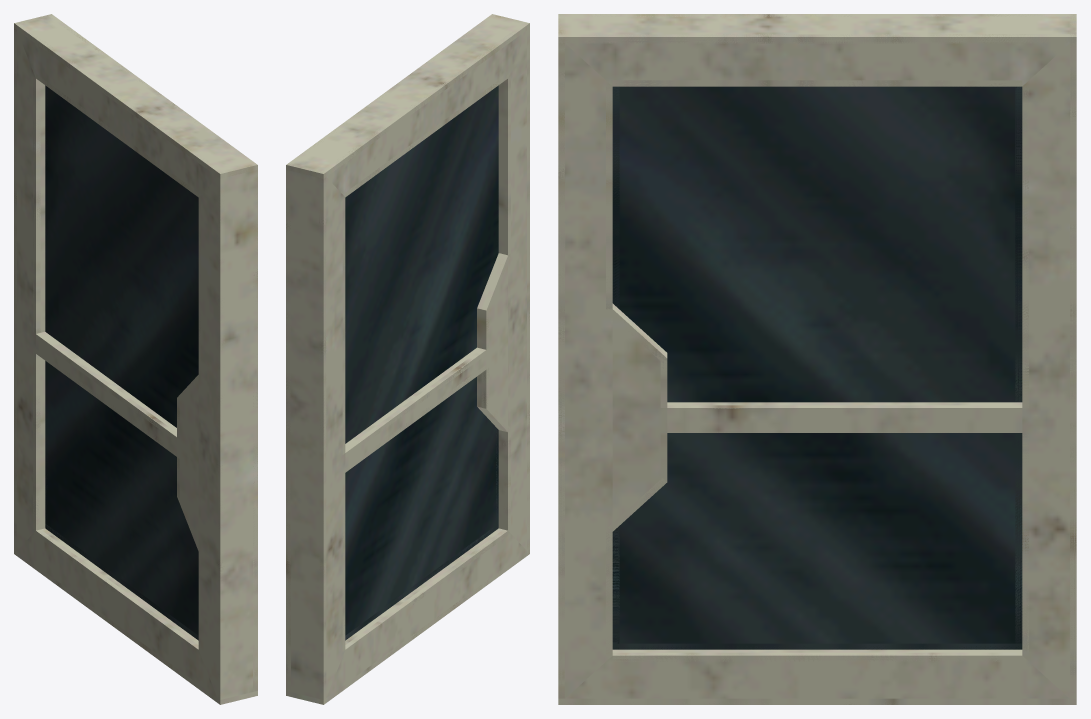
The model's file is glass_door.obj.
The picture shows the model from 3 angles, left to right: view 1: azimuth 30°, elevation 25°; view 2: azimuth 150°, elevation 25°; view 3: azimuth 270°, elevation 25°; orthographic projection. The views are drawn at different scales.
Visible parts, largest first — view 1: glass_door_01, glass_door_12, glass_door_31, glass_door_28, glass_door_11, glass_door_27, glass_door_32, glass_door_29, glass_door_30, glass_door_25, glass_door_24, glass_door_10 (+9 smaller); view 2: glass_door_01, glass_door_15, glass_door_31, glass_door_28, glass_door_11, glass_door_27, glass_door_32, glass_door_29, glass_door_30, glass_door_17, glass_door_19, glass_door_09 (+11 smaller); view 3: glass_door_06, glass_door_19, glass_door_22, glass_door_23, glass_door_18, glass_door_11, glass_door_20, glass_door_21, glass_door_12, glass_door_15, glass_door_09, glass_door_05 (+8 smaller).
Part boxes in pixels (x1,y1,x2,y2): glass_door_01: (45, 86, 198, 640); glass_door_12: (217, 164, 257, 703); glass_door_31: (14, 25, 40, 551); glass_door_28: (198, 174, 224, 699); glass_door_11: (14, 14, 257, 178); glass_door_27: (16, 529, 217, 697); glass_door_32: (15, 23, 220, 197); glass_door_29: (177, 375, 198, 550); glass_door_30: (36, 335, 176, 455); glass_door_25: (33, 76, 45, 333); glass_door_24: (33, 352, 45, 530); glass_door_10: (36, 332, 176, 441); glass_door_01: (345, 85, 498, 640); glass_door_15: (286, 163, 326, 704); glass_door_31: (319, 175, 345, 697); glass_door_28: (503, 31, 529, 552); glass_door_11: (286, 14, 529, 178); glass_door_27: (326, 529, 528, 701); glass_door_32: (322, 23, 528, 197); glass_door_29: (481, 254, 507, 431); glass_door_30: (345, 349, 486, 471); glass_door_17: (498, 76, 510, 254); glass_door_19: (286, 170, 290, 696); glass_door_09: (345, 528, 507, 649); glass_door_06: (612, 86, 1022, 649); glass_door_19: (1022, 38, 1076, 698); glass_door_22: (558, 38, 612, 698); glass_door_23: (561, 652, 1076, 704); glass_door_18: (559, 34, 1076, 86); glass_door_11: (558, 14, 1076, 43); glass_door_20: (667, 405, 1022, 432); glass_door_21: (612, 306, 667, 531); glass_door_12: (558, 14, 564, 704); glass_door_15: (1070, 14, 1076, 704); glass_door_09: (612, 649, 1022, 661); glass_door_05: (1015, 86, 1022, 649).
Bounding box in the file's own units: 8 × 108 × 76.
